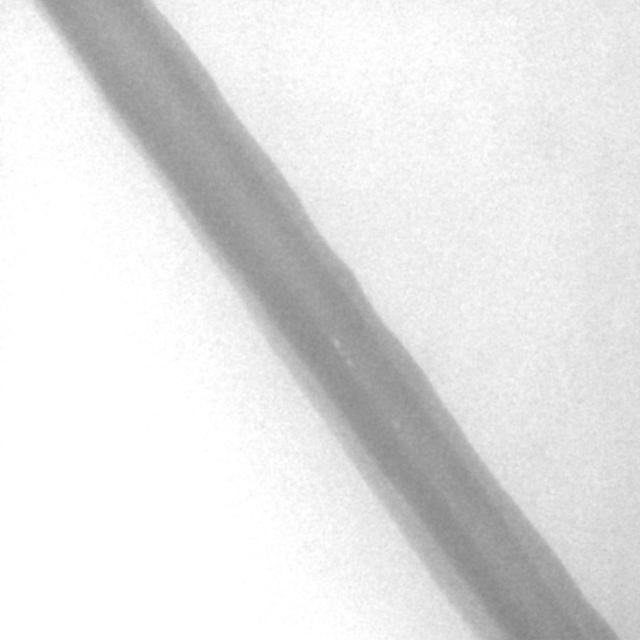air hole: (330, 335, 341, 350), (343, 357, 353, 369)
